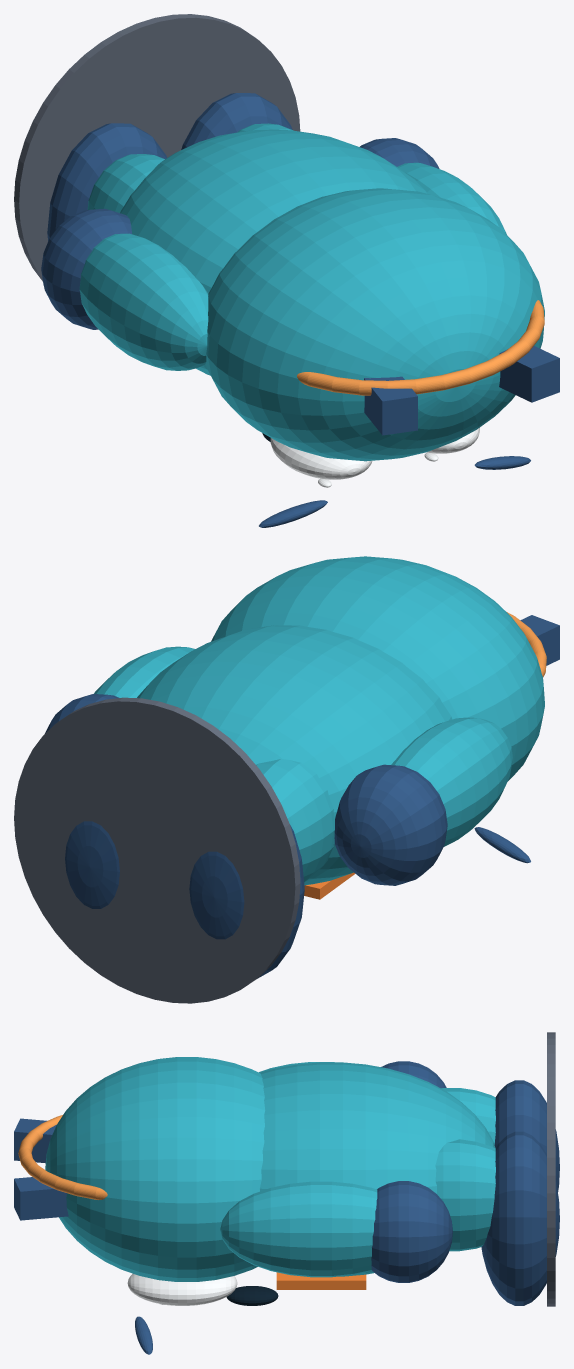
Rendered from luma_reaction_temperature.glb.
3 views of the same model, one above another, from view 1: azimuth 30°, elevation 25°; view 2: azimuth 150°, elevation 25°; view 3: azimuth 270°, elevation 25° (orthographic). The views are drawn at different scales.
Visible parts, largest first — view 1: CHR_Head, CHR_DisplayBase, CHR_Torso, CHR_LeftArm, CHR_LeftHand, CHR_LeftFoot, CHR_StatusRing, CHR_RightFoot, CHR_LeftLeg, CHR_RightAntenna, CHR_LeftAntenna, CHR_RightArm (+3 smaller); view 2: CHR_DisplayBase, CHR_Torso, CHR_Head, CHR_LeftHand, CHR_LeftArm, CHR_LeftLeg, CHR_LeftFoot, CHR_RightFoot, CHR_RightArm, CHR_LeftAntenna, CHR_LeftBrow, CHR_RightHand (+2 smaller); view 3: CHR_Head, CHR_Torso, CHR_RightArm, CHR_RightFoot, CHR_RightHand, CHR_RightLeg, CHR_LeftFoot, CHR_DisplayBase, CHR_RightEyeWhite, CHR_RightAntenna, CHR_StatusRing, CHR_ChestSensor (+5 smaller).
Boxes of the visible parts, box(x1,y1,x2,y2) form: CHR_Head: box(205, 188, 544, 461); CHR_DisplayBase: box(14, 14, 300, 281); CHR_Torso: box(120, 129, 427, 375); CHR_LeftArm: box(79, 233, 208, 370); CHR_LeftHand: box(41, 208, 131, 329); CHR_LeftFoot: box(47, 123, 167, 240); CHR_StatusRing: box(297, 300, 544, 395); CHR_RightFoot: box(181, 93, 292, 149); CHR_LeftLeg: box(87, 154, 164, 212); CHR_RightAntenna: box(499, 346, 559, 402); CHR_LeftAntenna: box(364, 376, 417, 435); CHR_RightArm: box(397, 162, 506, 234); CHR_DisplayBase: box(14, 697, 300, 1003); CHR_Torso: box(137, 625, 452, 885); CHR_Head: box(211, 556, 544, 780); CHR_LeftHand: box(334, 764, 447, 885); CHR_LeftArm: box(391, 717, 512, 846); CHR_LeftLeg: box(256, 759, 334, 881); CHR_LeftFoot: box(189, 825, 304, 978); CHR_RightFoot: box(65, 821, 119, 908); CHR_RightArm: box(94, 646, 195, 697); CHR_LeftAntenna: box(520, 615, 559, 665); CHR_LeftBrow: box(474, 827, 530, 863); CHR_RightHand: box(45, 694, 118, 733); CHR_Head: box(45, 1057, 265, 1281); CHR_Torso: box(259, 1062, 495, 1276); CHR_RightArm: box(220, 1181, 377, 1277); CHR_RightFoot: box(481, 1131, 559, 1305); CHR_RightHand: box(371, 1181, 452, 1282); CHR_RightLeg: box(435, 1139, 495, 1251); CHR_LeftFoot: box(494, 1080, 559, 1191); CHR_DisplayBase: box(547, 1032, 555, 1306); CHR_RightEyeWhite: box(127, 1274, 237, 1305); CHR_RightAntenna: box(14, 1177, 68, 1220); CHR_StatusRing: box(18, 1115, 107, 1199); CHR_ChestSensor: box(276, 1272, 366, 1289).
Size of the model in its own units: 2.64 by 1.94 by 3.78.
